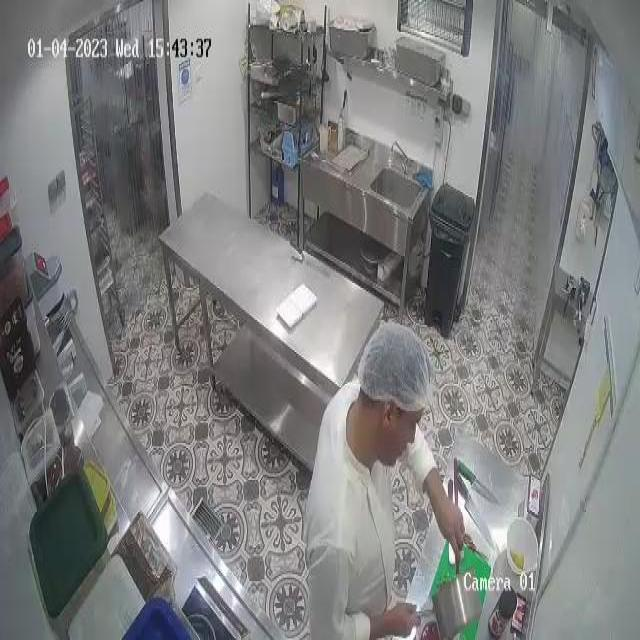hairnet: (362, 319, 429, 412)
